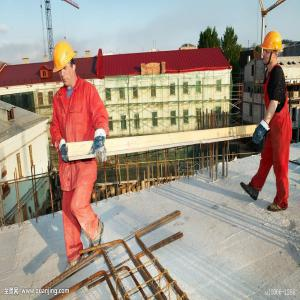yellow: (52, 41, 79, 90), (261, 31, 284, 71)
